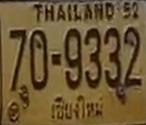0: (28, 29, 50, 91)
2: (123, 26, 143, 90)
3: (84, 28, 103, 88), (104, 28, 122, 89)
7: (9, 29, 27, 92)
9: (64, 27, 84, 89)
CMI: (48, 92, 106, 122)
